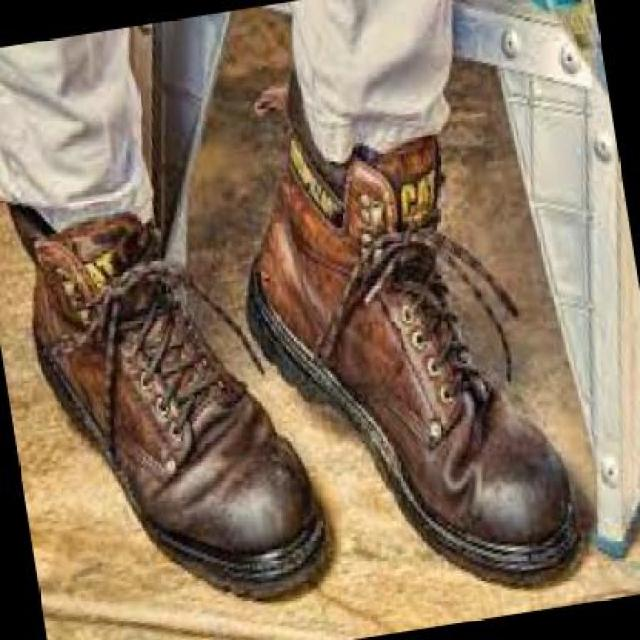Safety Boots: (250, 89, 579, 584), (13, 208, 325, 598)
